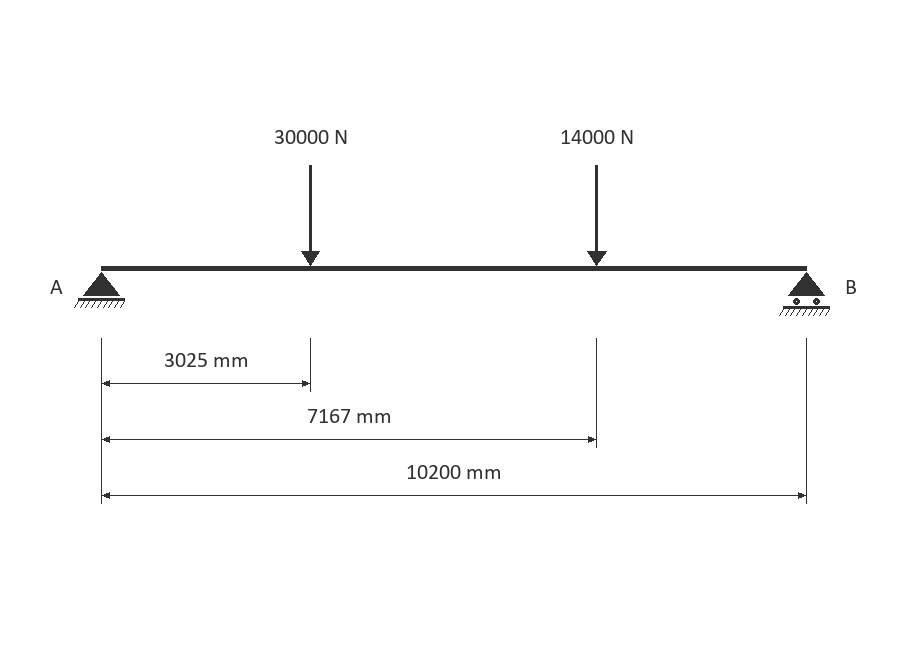pin_support: (74, 272, 125, 308)
point_load: (587, 165, 607, 266), (301, 165, 320, 266)
roller_support: (779, 272, 830, 316)
